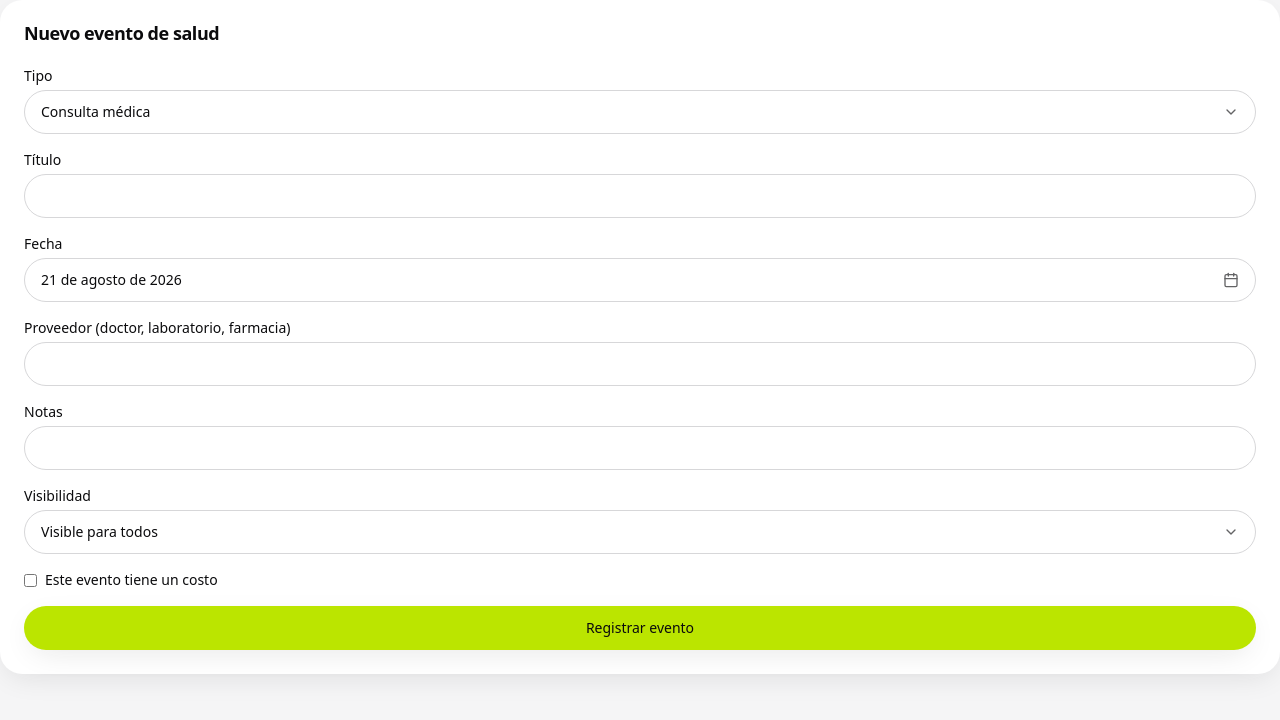
Scenario: EventForm — smoke render (health-tracking) › no longer offers 'Nutrición' — /nutricion is now its sole creation path (change: nutrition-submodule)
Click the dropdown named "Tipo".
click(96, 112)  # box left=24, top=90, right=1256, bottom=134
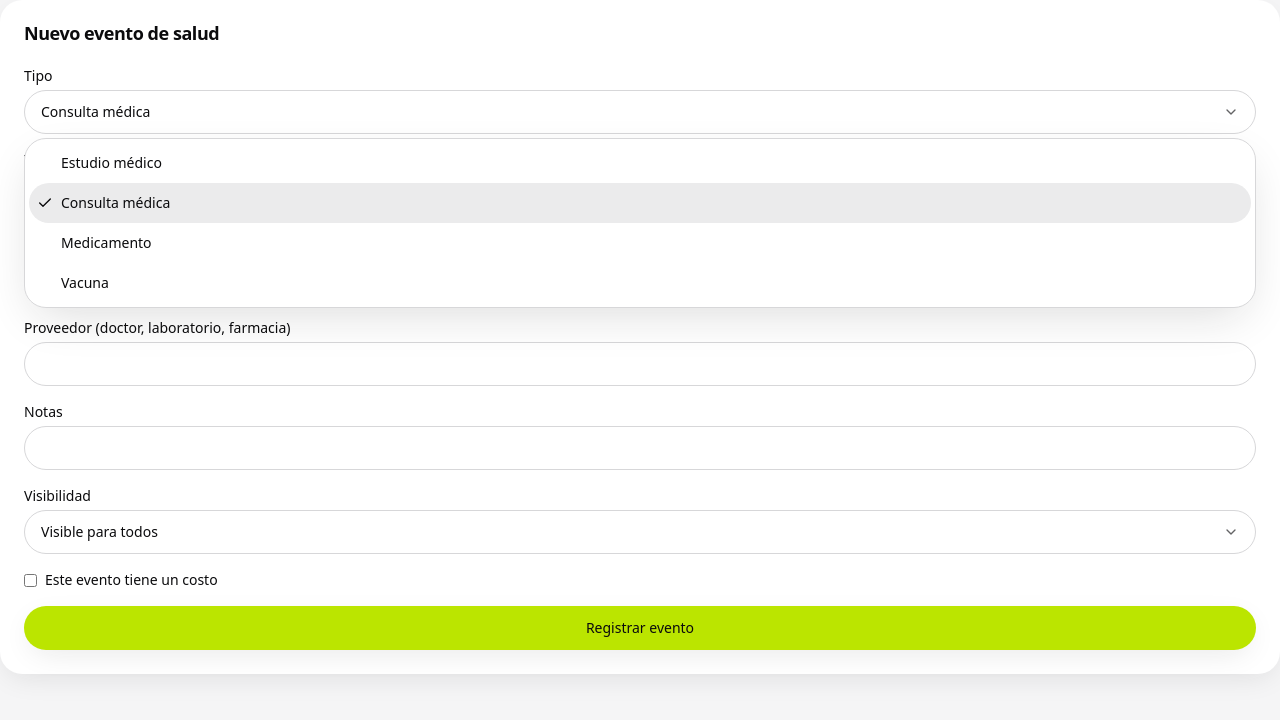
Now the option "Estudio médico" is shown, box left=61, top=153, right=162, bottom=172
Now the option "Consulta médica" is shown, box left=29, top=183, right=1251, bottom=223
Now the option "Medicamento" is shown, box left=61, top=233, right=152, bottom=252
